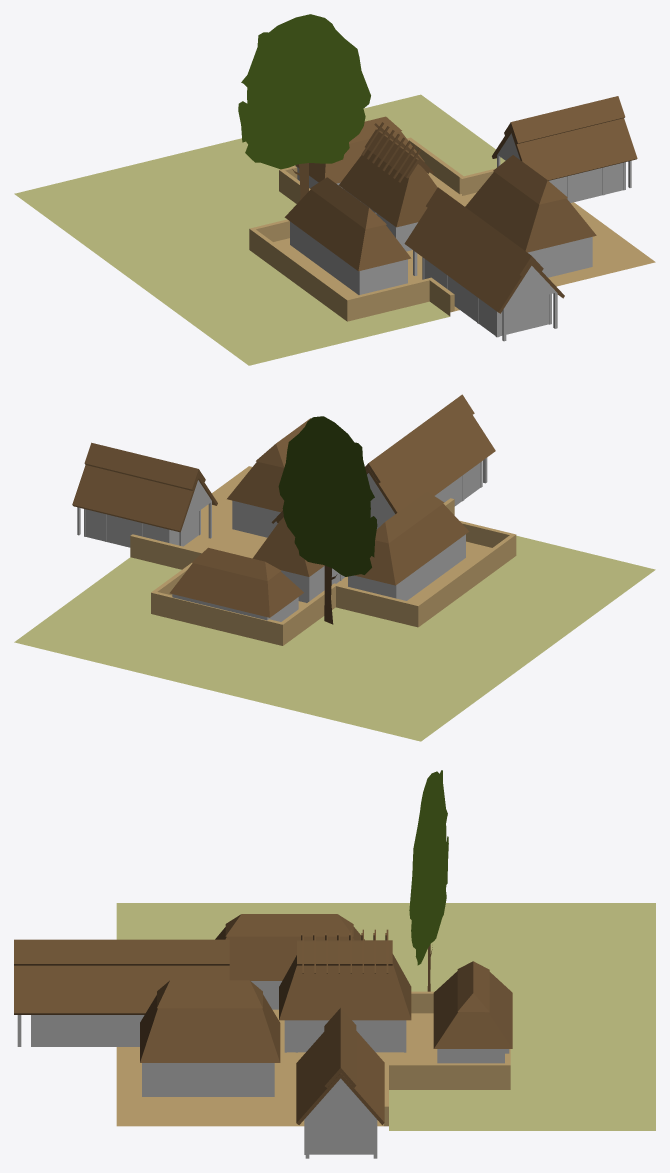
3 views of the same model, one above another, from view 1: azimuth 30°, elevation 25°; view 2: azimuth 150°, elevation 25°; view 3: azimuth 270°, elevation 25° (orthographic). The views are drawn at different scales.
Visible parts, largest first — view 1: ww1w; view 2: ww1w; view 3: ww1w.
Boxes of the visible parts, box(x1,y1,x2,y2) form: ww1w: box(14, 14, 655, 365); ww1w: box(14, 394, 655, 741); ww1w: box(14, 770, 655, 1158).
Bounding box in the file's own units: 34.42 × 14.41 × 35.7.
